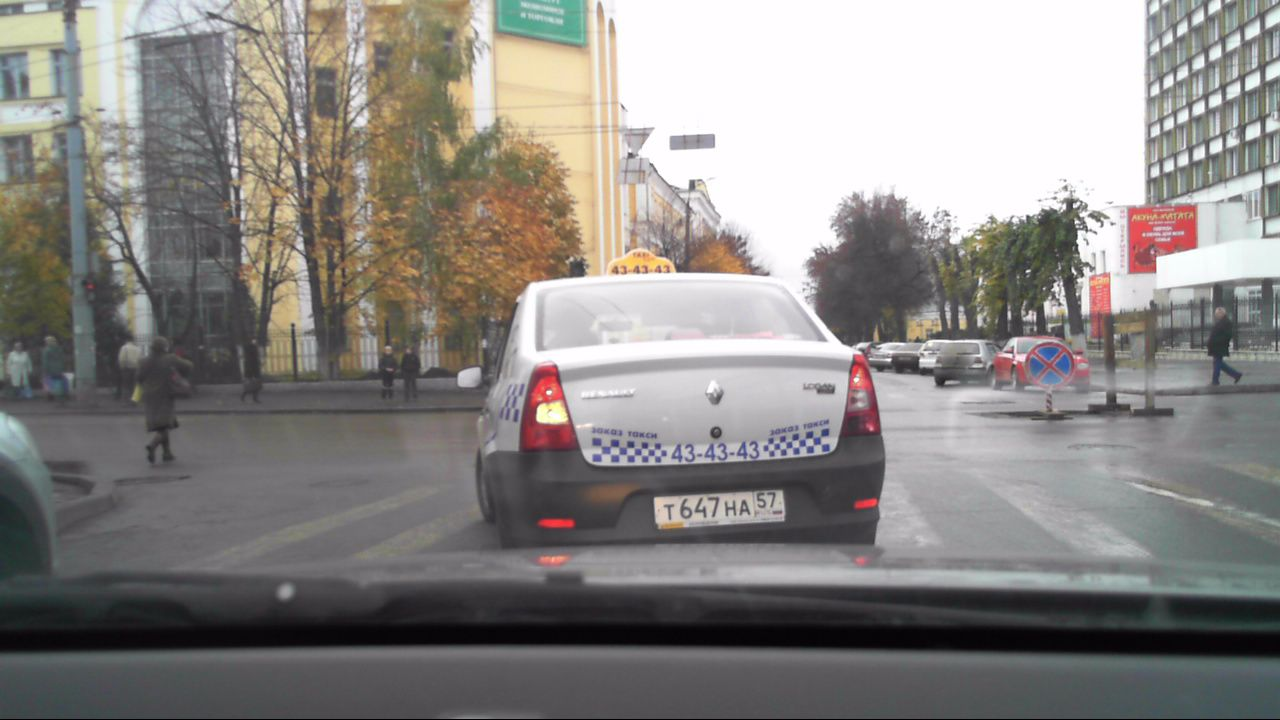No Parking: (1020, 340, 1081, 393)
